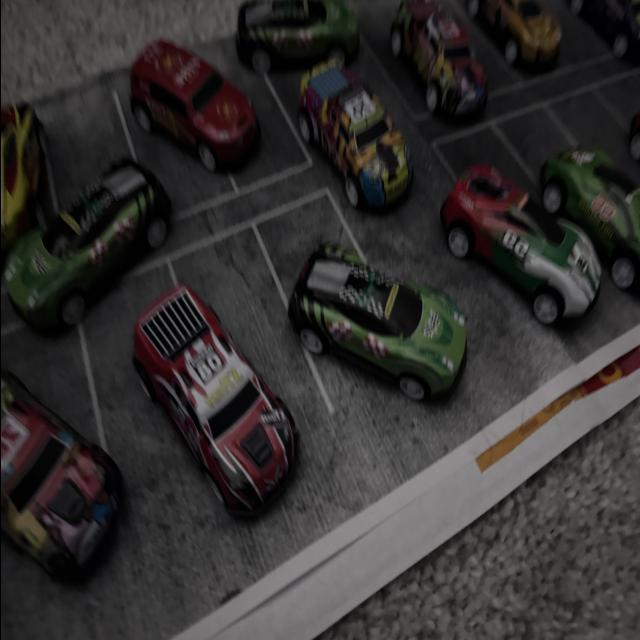car: (115, 225, 306, 536), (292, 228, 482, 431), (89, 0, 290, 189), (0, 348, 131, 590), (434, 158, 576, 332), (521, 115, 640, 298), (283, 90, 409, 220), (0, 192, 153, 297), (240, 0, 370, 96), (376, 0, 480, 120), (488, 1, 576, 76)
